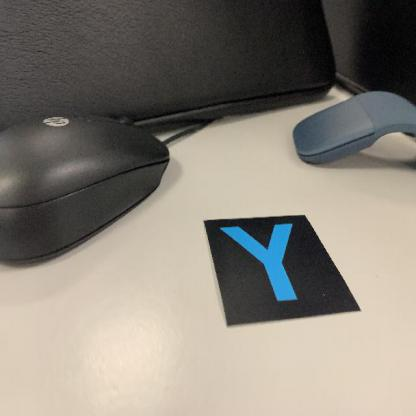y: (203, 213, 363, 329)
